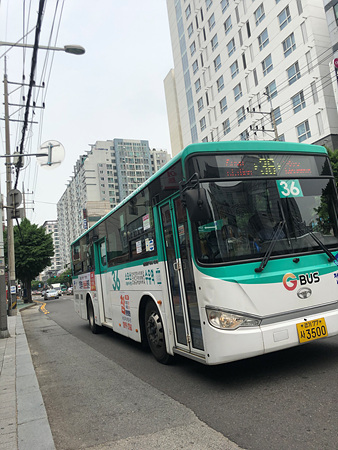bnum: (278, 178, 301, 197)
